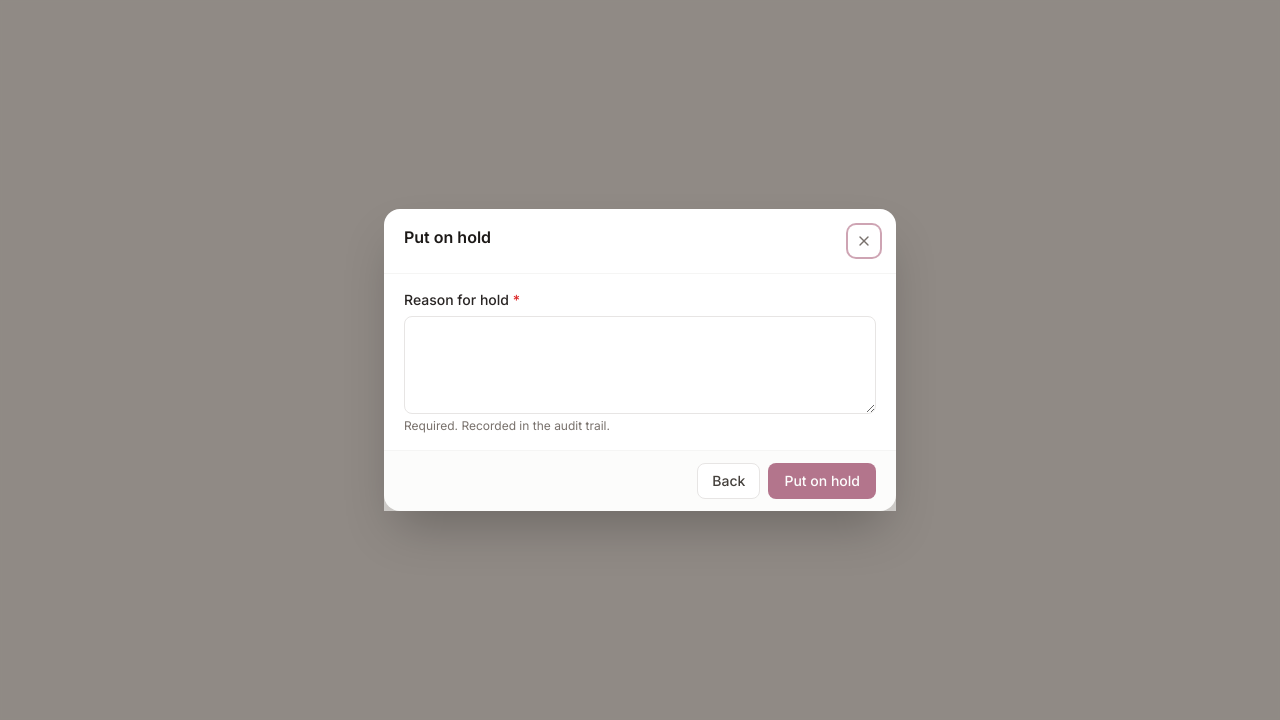
Scenario: ReasonDialog (hold / cancel) › keeps the dialog open and shows the server error when the action fails
Type "Awaiting proof" into the text box labelled "Reason for hold *" at (640, 365), box [404,316,876,414]
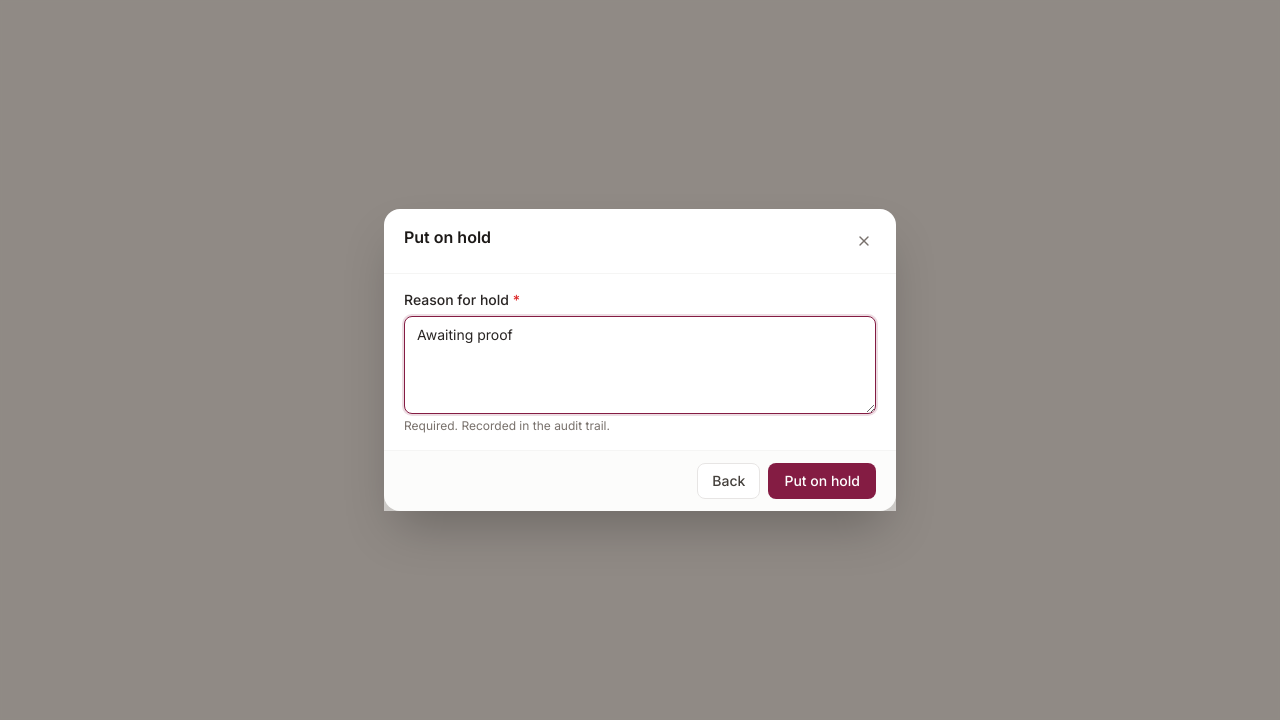
Click the button "Put on hold" at (822, 481), box [768,463,876,499]
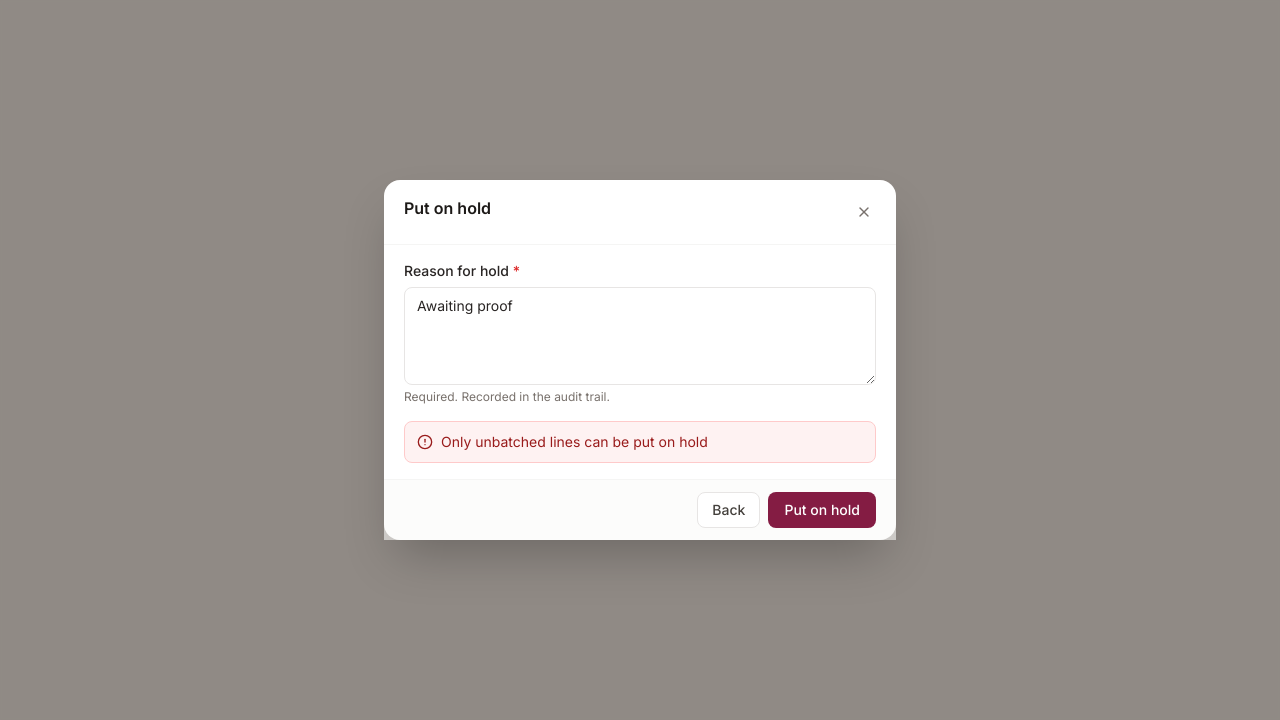
Check: the message reads "Only unbatched lines can be put on hold", box [441,433,708,450]
